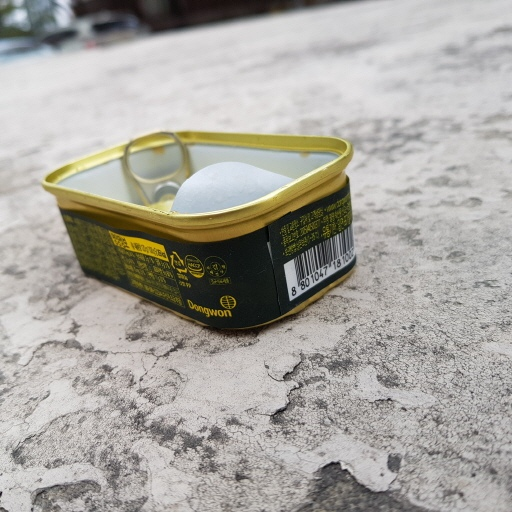Metal_2: (40, 121, 364, 334)
